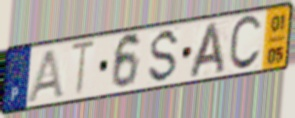6: (108, 31, 144, 93)
A: (187, 20, 227, 81), (25, 46, 67, 103)
C: (226, 13, 264, 74)
S: (145, 26, 182, 85)
T: (69, 38, 99, 99)
